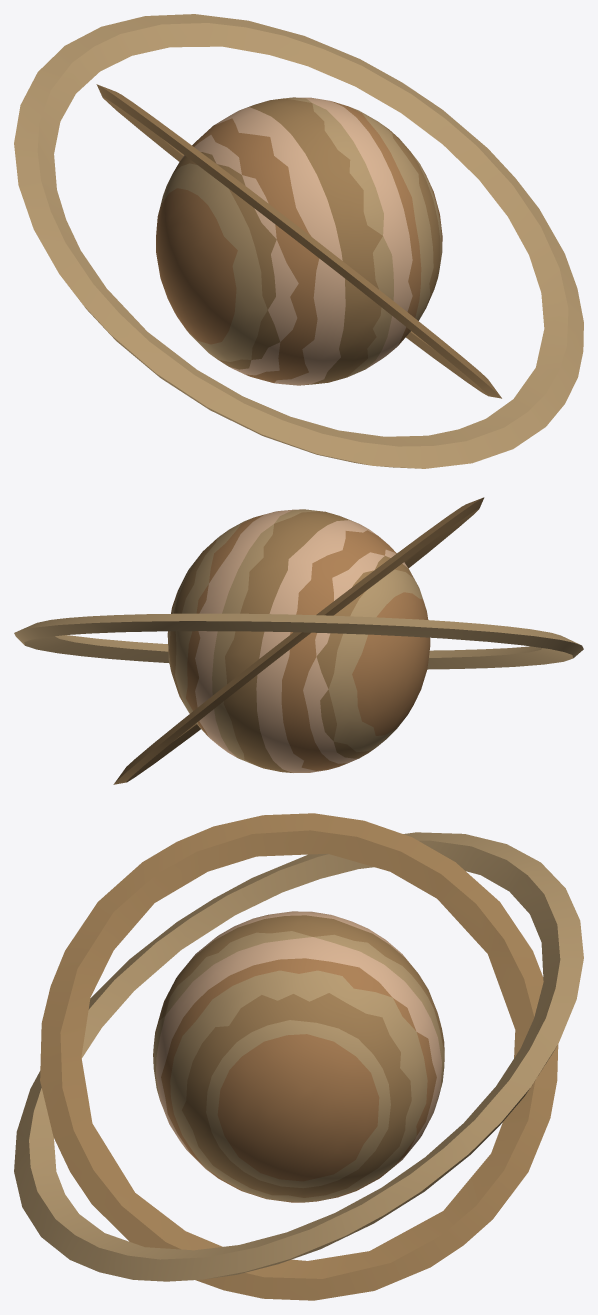
File: quaternius-ultimate-space-planet-7.glb
3 renders of one model, top to bottom at view 1: azimuth 30°, elevation 25°; view 2: azimuth 150°, elevation 25°; view 3: azimuth 270°, elevation 25°, orthographic. The views are drawn at different scales.
Parts seen in each view (by area): view 1: Planet_7; view 2: Planet_7; view 3: Planet_7.
Part boxes in pixels (x1=…): Planet_7: x1=14, y1=14, x2=583, y2=468; Planet_7: x1=14, y1=497, x2=583, y2=784; Planet_7: x1=14, y1=813, x2=583, y2=1300.
Size of the model in its own units: 4.81 by 2.87 by 4.46.
1 material, 1 textured.
